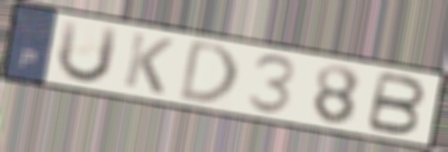3: (246, 53, 299, 115)
8: (311, 63, 362, 126)
B: (363, 69, 429, 137)
D: (175, 37, 241, 105)
K: (120, 30, 176, 97)
U: (54, 17, 122, 85)
